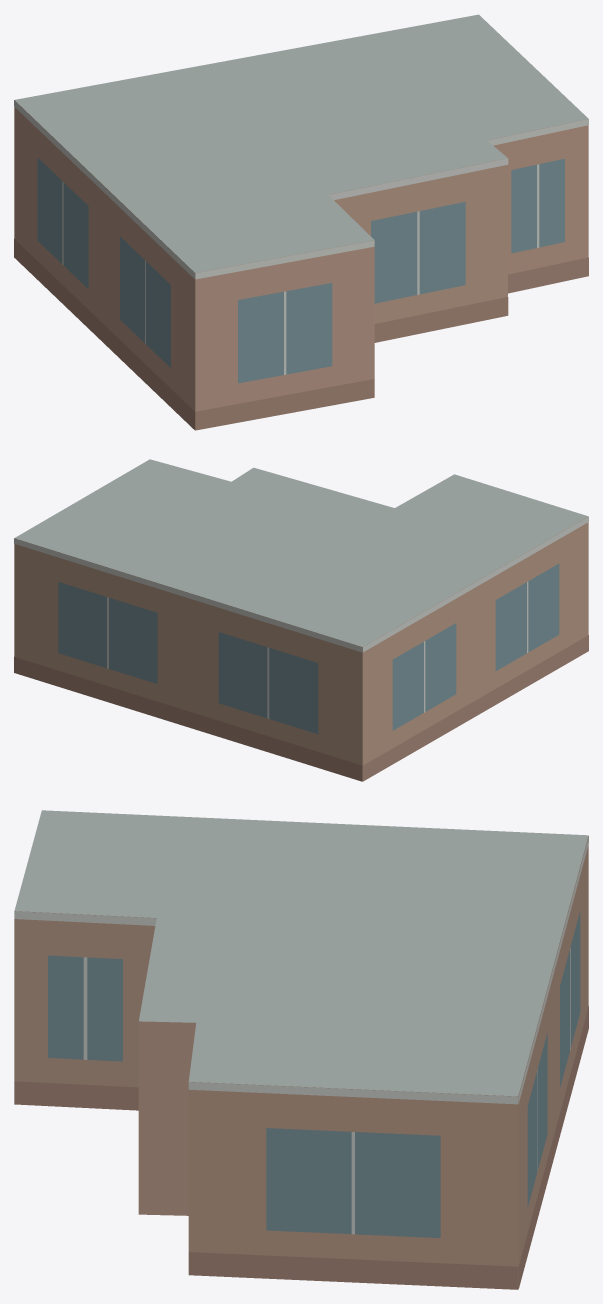
Rendered from survey-upis-32766813.glb.
3 renders of one model, top to bottom at view 1: azimuth 30°, elevation 25°; view 2: azimuth 150°, elevation 25°; view 3: azimuth 270°, elevation 25°, orthographic. The views are drawn at different scales.
Visible parts, largest first — view 1: survey-upis-32766813.tmp; view 2: survey-upis-32766813.tmp; view 3: survey-upis-32766813.tmp.
Boxes of the visible parts, x1=… form: survey-upis-32766813.tmp: x1=14, y1=14, x2=588, y2=430; survey-upis-32766813.tmp: x1=14, y1=459, x2=588, y2=781; survey-upis-32766813.tmp: x1=14, y1=810, x2=588, y2=1289.
Bounding box in the file's own units: 9.7 × 3.05 × 8.23.
